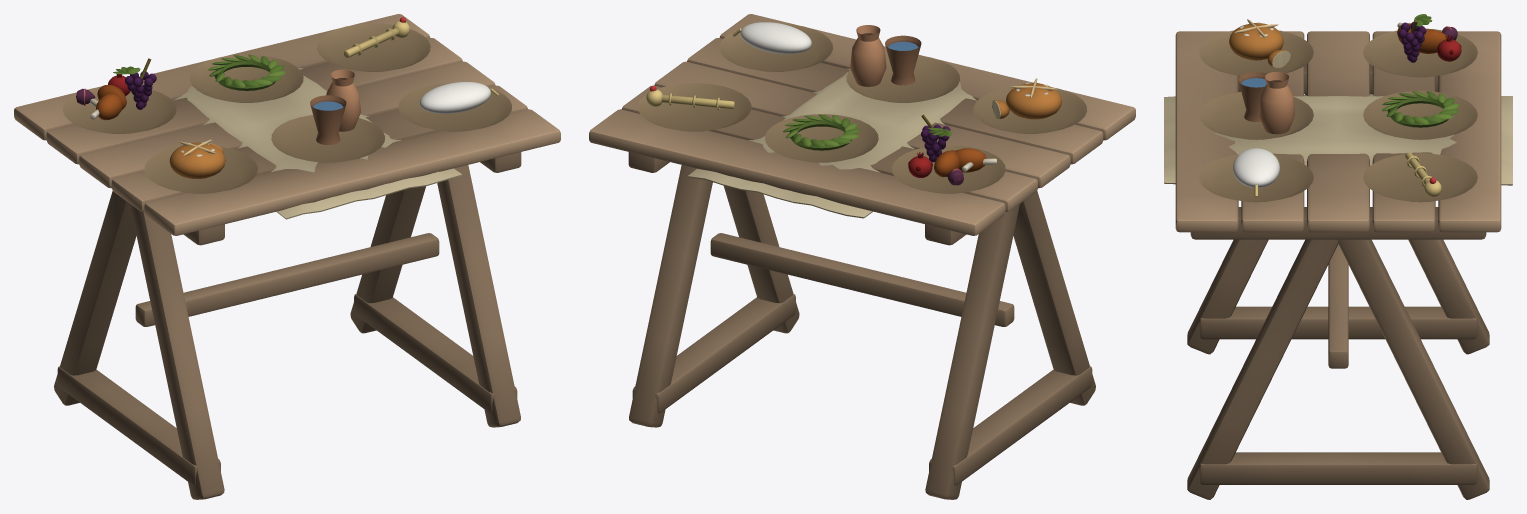
Rendered from obj_kit_table.glb.
The picture shows the model from 3 angles, left to right: view 1: azimuth 30°, elevation 25°; view 2: azimuth 150°, elevation 25°; view 3: azimuth 270°, elevation 25°; orthographic projection.
Parts seen in each view (by area): view 1: Cube, Cube.006, Cube.010, cloth, Cube.013, Cube.005, Cube.002, Cube.008, Cube.012, Cube.003, Cube.004, plate.005 (+11 smaller); view 2: Cube.004, Cube.005, Cube.009, cloth, Cube.013, Cube.006, Cube.002, Cube.001, Cube.008, Cube.012, Cube, plate.005 (+12 smaller); view 3: Cube, Cube.004, Cube.002, Cube.009, Cube.010, cloth, Cube.012, Cube.008, plate.005, Cube.003, Cube.006, Cube.005 (+15 smaller).
Part boxes in pixels (left/top/right/bottom): Cube: left=144, top=109, right=560, bottom=235; Cube.006: left=130, top=204, right=224, bottom=499; Cube.010: left=437, top=165, right=520, bottom=427; cloth: left=173, top=68, right=462, bottom=219; Cube.013: left=135, top=233, right=439, bottom=326; Cube.005: left=54, top=191, right=136, bottom=405; Cube.002: left=79, top=61, right=495, bottom=188; Cube.008: left=57, top=366, right=220, bottom=485; Cube.012: left=354, top=294, right=517, bottom=413; Cube.003: left=46, top=38, right=462, bottom=164; Cube.004: left=14, top=14, right=430, bottom=140; plate.005: left=317, top=23, right=430, bottom=71; Cube.004: left=589, top=109, right=1005, bottom=235; Cube.005: left=925, top=204, right=1019, bottom=499; Cube.009: left=629, top=165, right=712, bottom=427; cloth: left=687, top=68, right=976, bottom=218; Cube.013: left=710, top=233, right=1014, bottom=326; Cube.006: left=1013, top=191, right=1095, bottom=405; Cube.002: left=654, top=61, right=1070, bottom=188; Cube.001: left=687, top=38, right=1103, bottom=164; Cube.008: left=929, top=366, right=1092, bottom=485; Cube.012: left=632, top=294, right=795, bottom=413; Cube: left=719, top=14, right=1135, bottom=140; plate.005: left=637, top=83, right=751, bottom=131; Cube: left=1175, top=31, right=1238, bottom=232; Cube.004: left=1438, top=31, right=1501, bottom=232; Cube.002: left=1307, top=31, right=1369, bottom=232; Cube.009: left=1338, top=239, right=1489, bottom=499; Cube.010: left=1187, top=239, right=1338, bottom=499; cloth: left=1164, top=94, right=1512, bottom=185; Cube.012: left=1199, top=452, right=1477, bottom=484; Cube.008: left=1199, top=306, right=1477, bottom=339; plate.005: left=1363, top=153, right=1477, bottom=202; Cube.003: left=1372, top=31, right=1435, bottom=232; Cube.006: left=1187, top=94, right=1306, bottom=354; Cube.005: left=1408, top=239, right=1489, bottom=354.
Bounding box in the file's own units: 1.1 × 0.9628 × 0.85.
